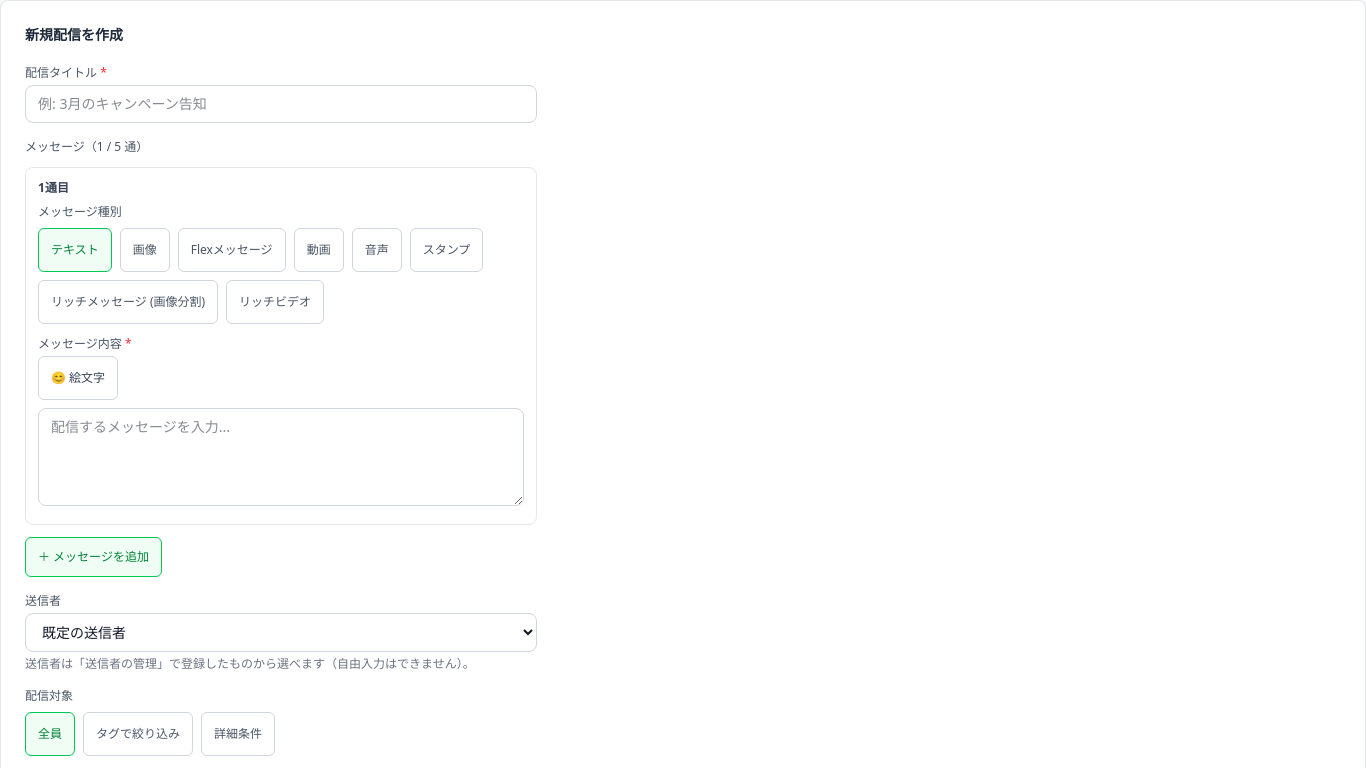
T-C8 broadcast-form: 種別選択 + 送信者 dropdown › 種別を「動画」に切替えると text 入力が消え動画 URL 入力が出る
Expected: the field with placeholder "https://example.com/video.mp4" is not shown
What coordinates should you click on to do the following:
click the button "動画"
I would click on:
 (319, 250)
Its box is x1=294 y1=228 x2=344 y2=272.
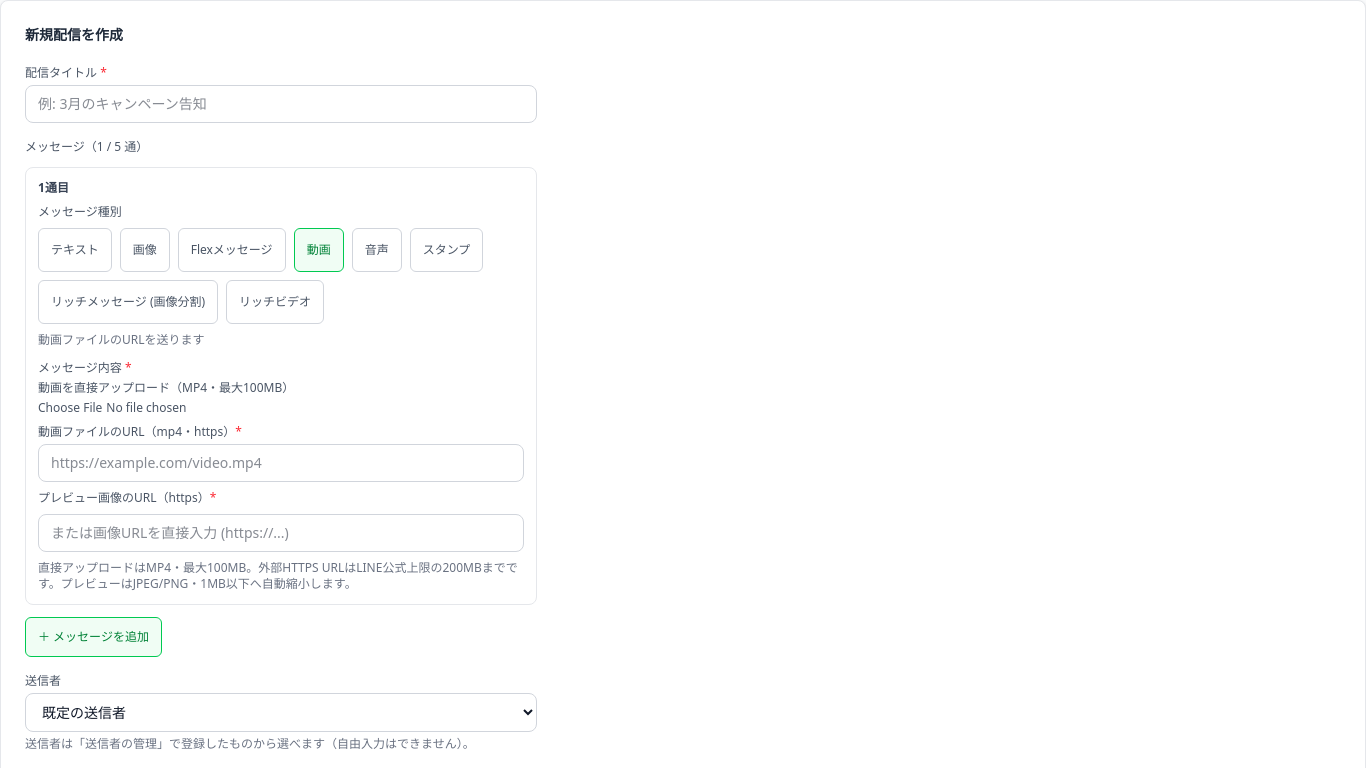
Now the field with placeholder "https://example.com/video.mp4" is shown, box x1=38 y1=444 x2=524 y2=482
